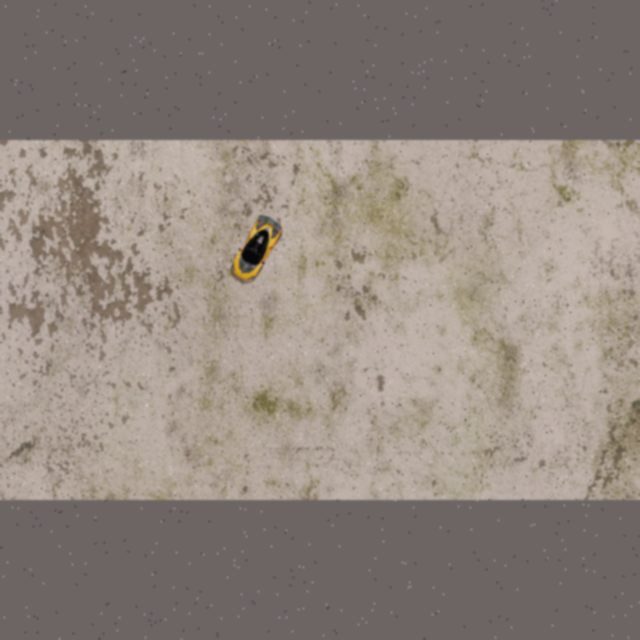car: (224, 211, 286, 286)
